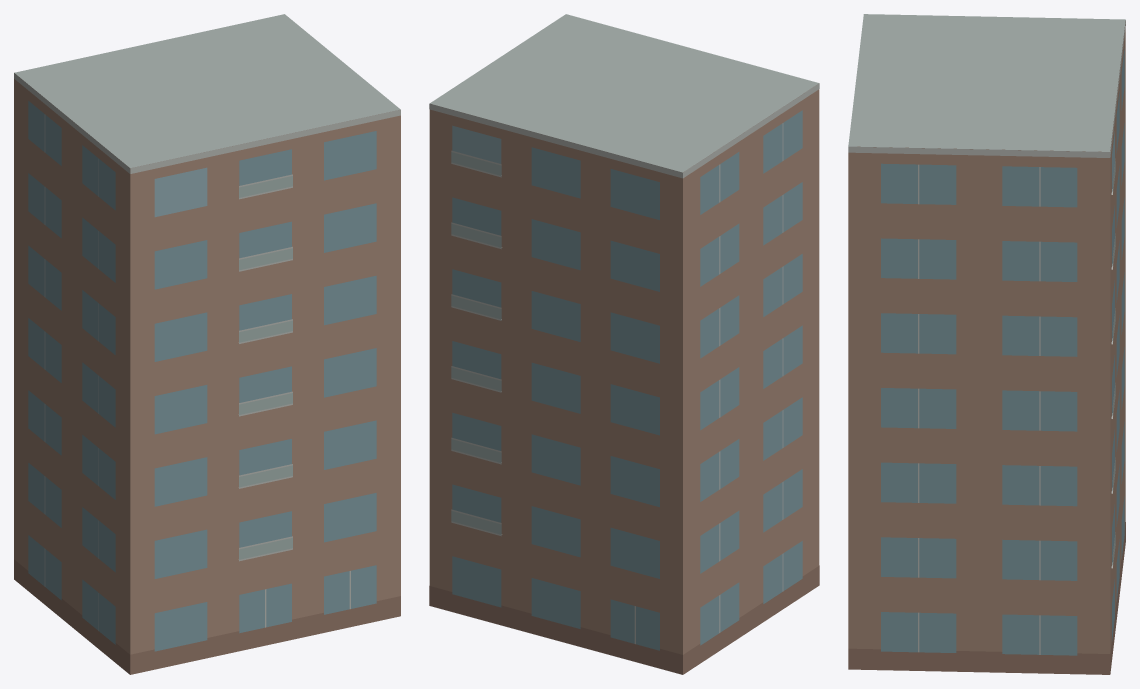
Rendered from survey-upis-32664701.glb.
3 views of the same model, side by side, from view 1: azimuth 30°, elevation 25°; view 2: azimuth 150°, elevation 25°; view 3: azimuth 270°, elevation 25° (orthographic). The views are drawn at different scales.
Visible parts, largest first — view 1: survey-upis-32664701.tmp; view 2: survey-upis-32664701.tmp; view 3: survey-upis-32664701.tmp.
Boxes of the visible parts, x1,y1,x2,y2 form: survey-upis-32664701.tmp: (14,14,400,674); survey-upis-32664701.tmp: (429,14,819,674); survey-upis-32664701.tmp: (848,14,1125,674).
Size of the model in its own units: 11.78 by 20.8 by 10.01.
